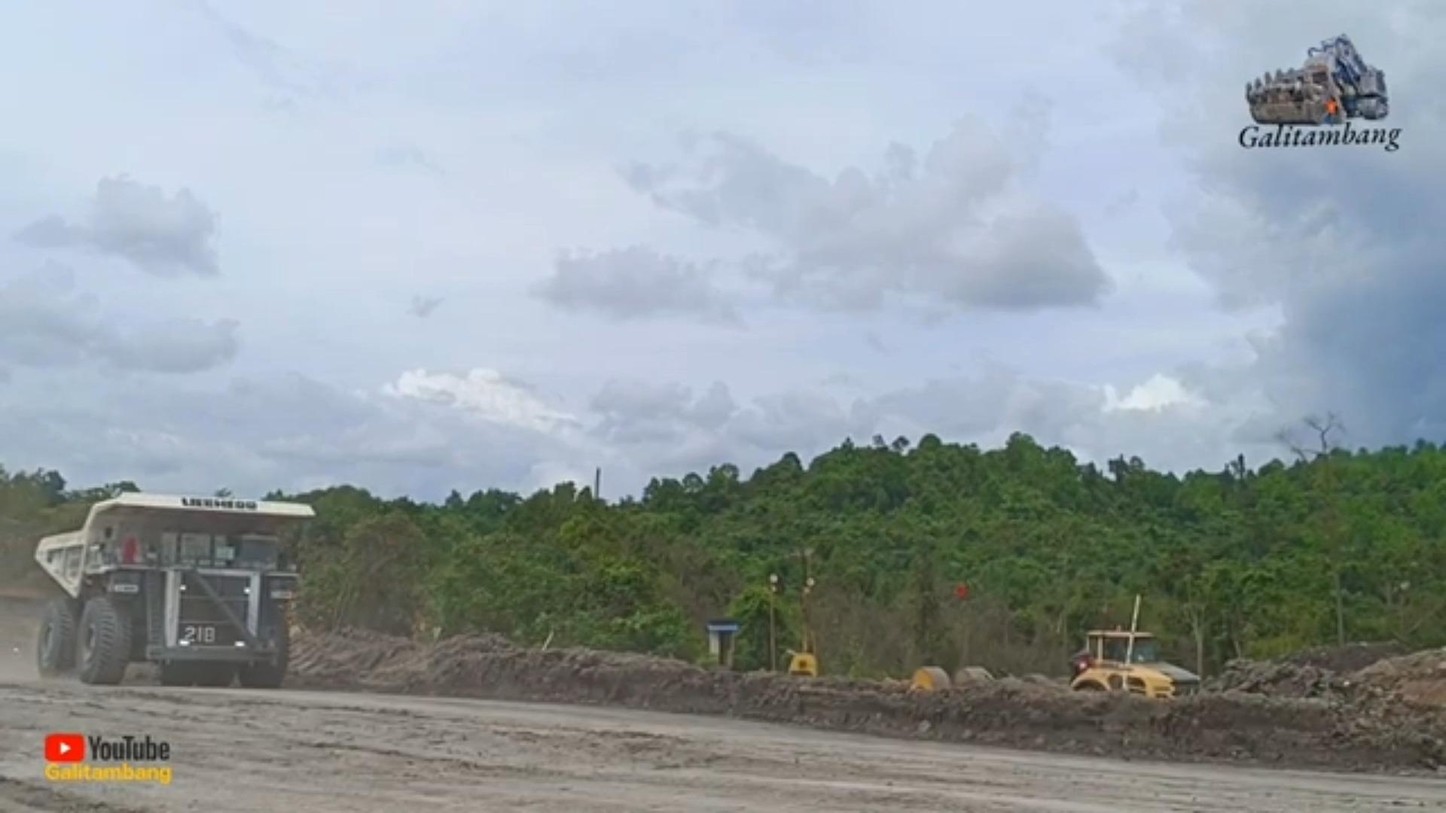HD-Truck: (33, 493, 315, 687)
